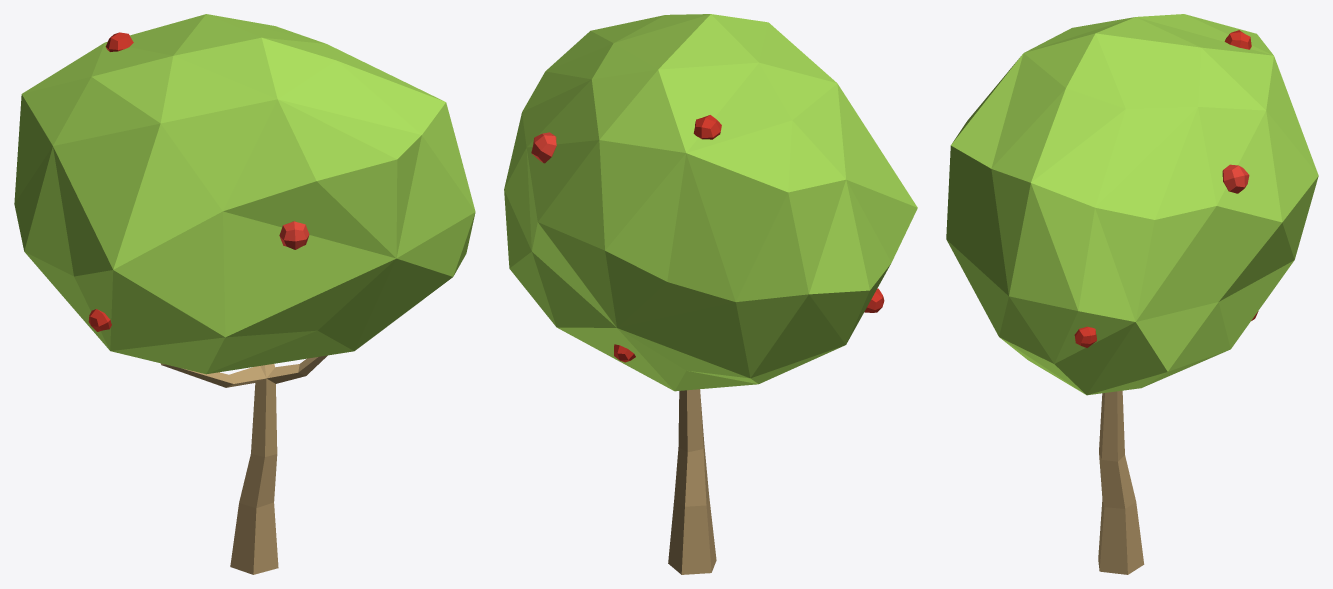
Rendered from Apple_Tree_Apples_m_BT_02.fbx.
3 renders of one model, left to right at view 1: azimuth 30°, elevation 25°; view 2: azimuth 150°, elevation 25°; view 3: azimuth 270°, elevation 25°, orthographic. The views are drawn at different scales.
Parts seen in each view (by area): view 1: Apple_Tree_Apples_m_BT_02; view 2: Apple_Tree_Apples_m_BT_02; view 3: Apple_Tree_Apples_m_BT_02.
Part boxes in pixels (x1=…): Apple_Tree_Apples_m_BT_02: x1=14, y1=14, x2=475, y2=574; Apple_Tree_Apples_m_BT_02: x1=504, y1=14, x2=917, y2=574; Apple_Tree_Apples_m_BT_02: x1=946, y1=14, x2=1318, y2=574.
Size of the model in its own units: 515 by 667 by 426.
